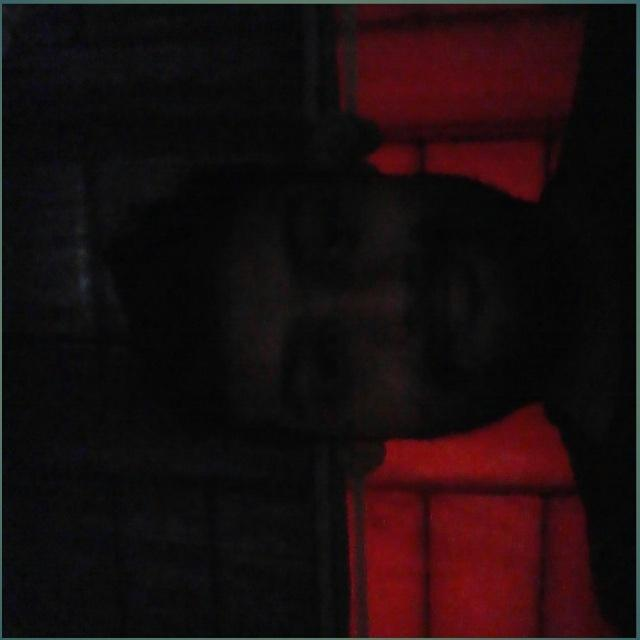Happy: (149, 139, 548, 434)
